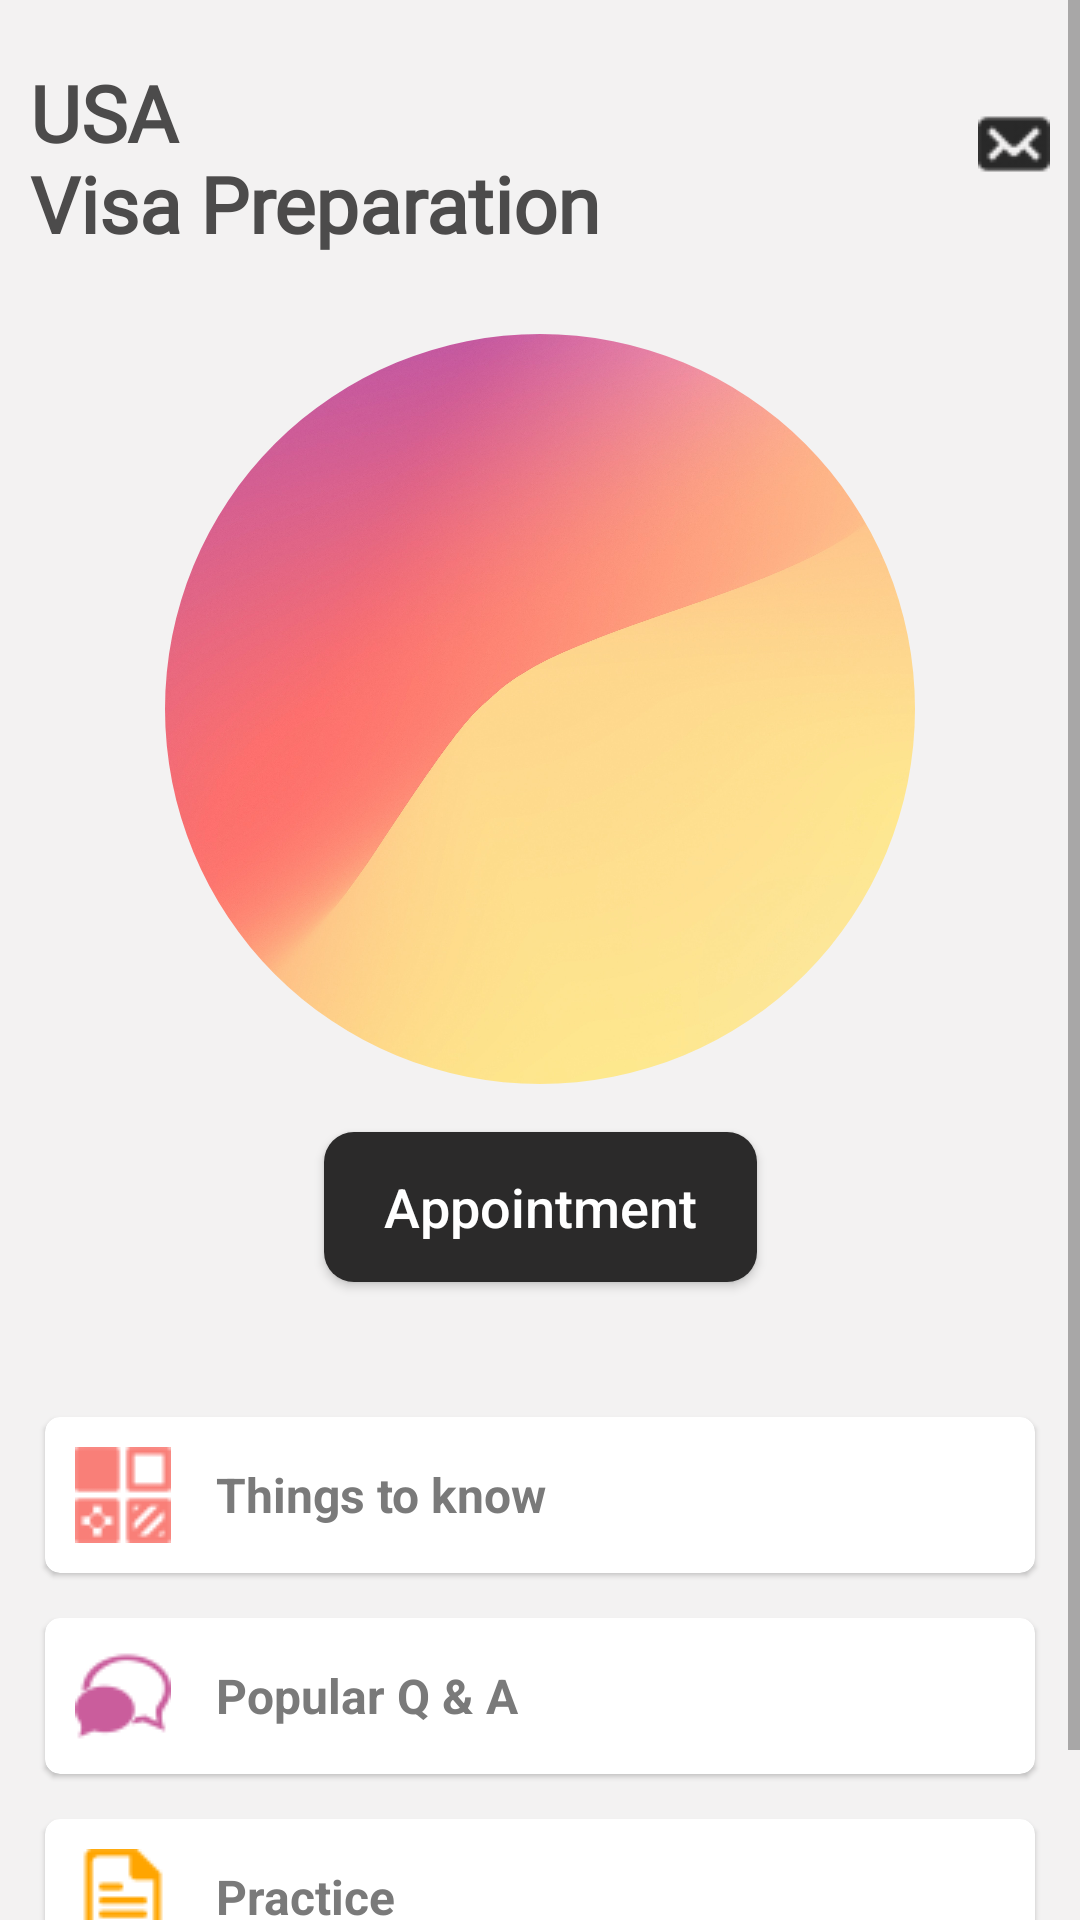

Named icons in this screenshot (1080×1920) and their bounding boxes, box(x1, y1, x2, y2):
chat: box(75, 1653, 171, 1738)
mail: box(978, 116, 1050, 172)
